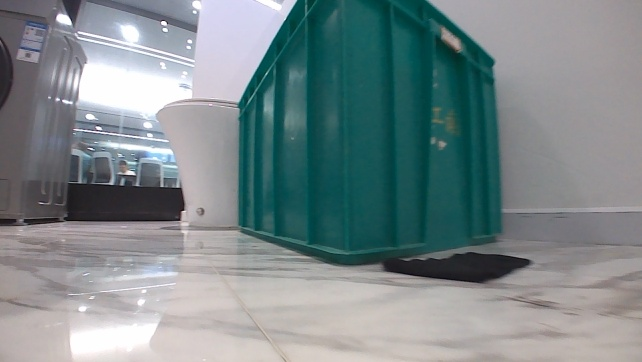socks: (382, 245, 535, 289)
toilet: (155, 92, 245, 233)
washing_machine1: (0, 0, 90, 228)
